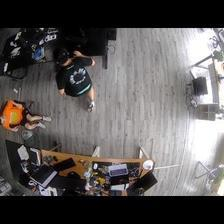fall: (51, 52, 97, 112)
normal: (1, 100, 50, 131)
